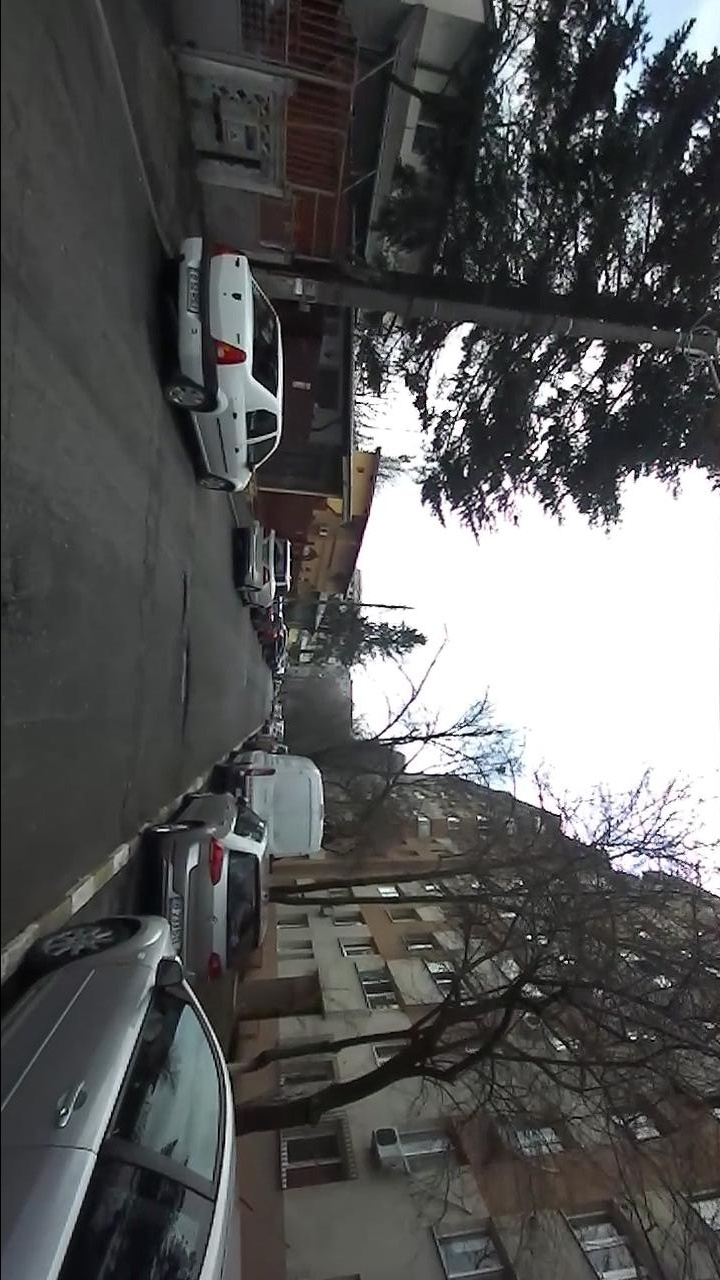pothole: (3, 545, 27, 626), (175, 639, 192, 735), (178, 570, 191, 623)
